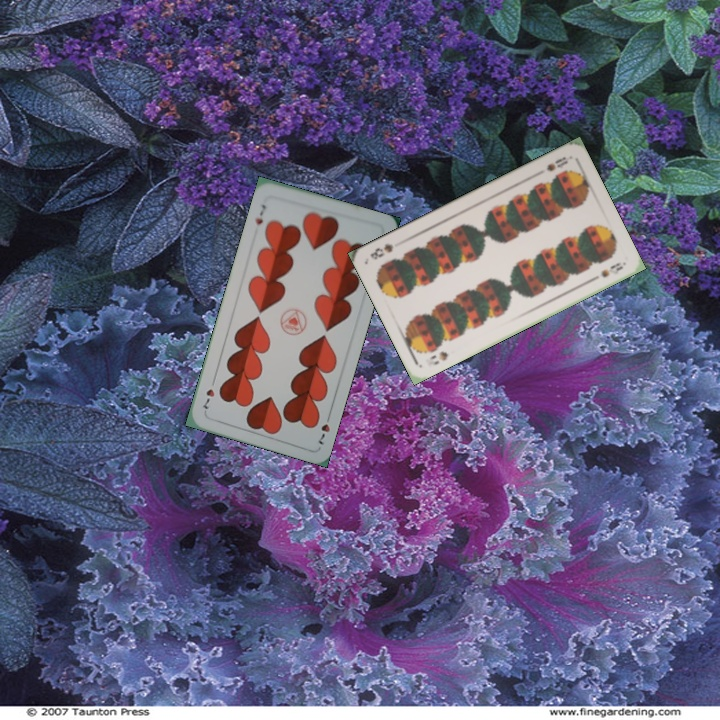H7: (314, 409, 333, 447), (251, 200, 269, 228)
S8: (542, 153, 570, 174), (426, 347, 450, 368)
